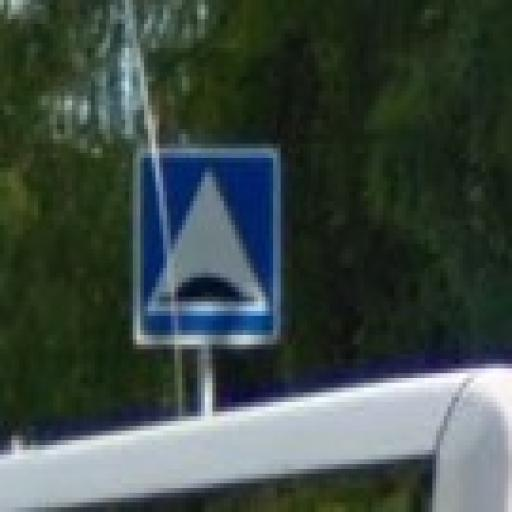traffic_sign: (130, 150, 282, 346)
